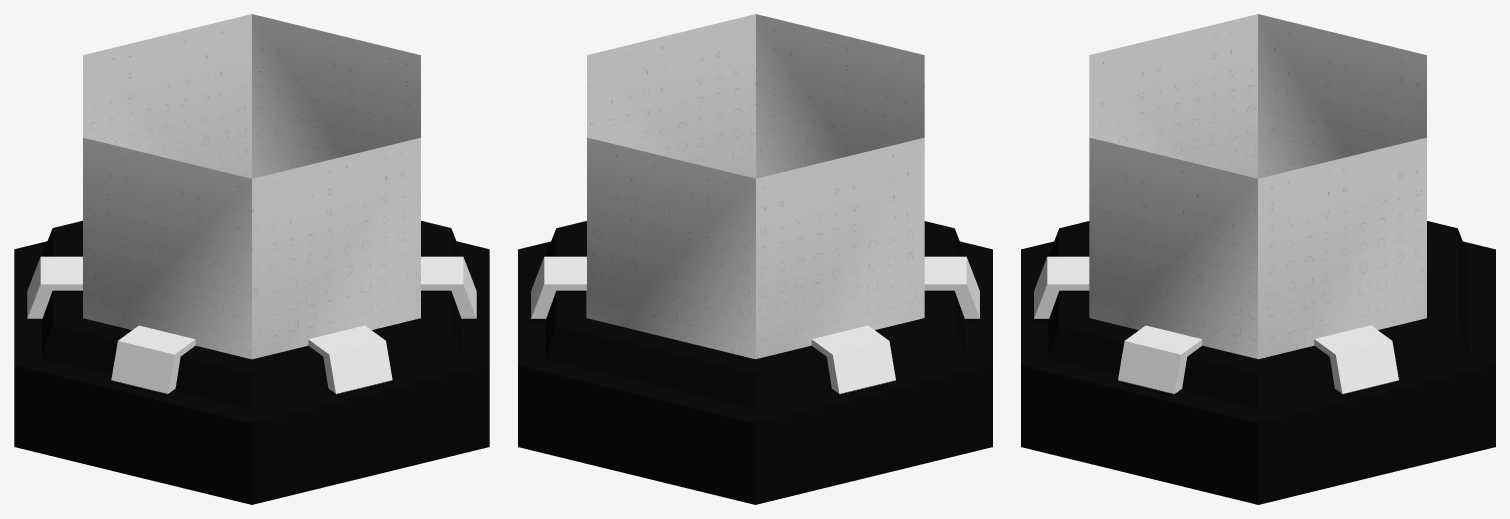
The model's file is lower-pipe.glb.
The picture shows the model from 3 angles, left to right: view 1: azimuth 30°, elevation 25°; view 2: azimuth 150°, elevation 25°; view 3: azimuth 270°, elevation 25°; orthographic projection.
Parts seen in each view (by area): view 1: LowerPipe; view 2: LowerPipe; view 3: LowerPipe.
Boxes of the visible parts, x1,y1,x2,y2 form: LowerPipe: (14,14,489,504); LowerPipe: (518,14,992,504); LowerPipe: (1021,14,1495,504).
Bounding box in the file's own units: 2.09 × 1.23 × 1.81.
4 materials, 2 textured.
